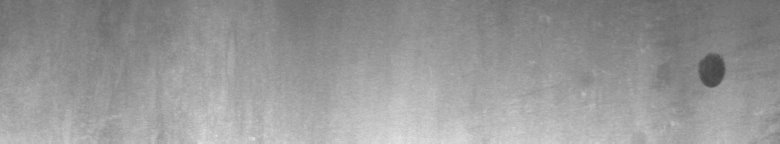fi: (668, 45, 776, 136)
